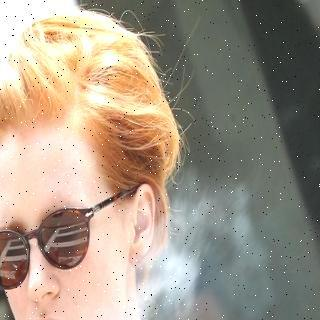smoke: (132, 169, 244, 320)
